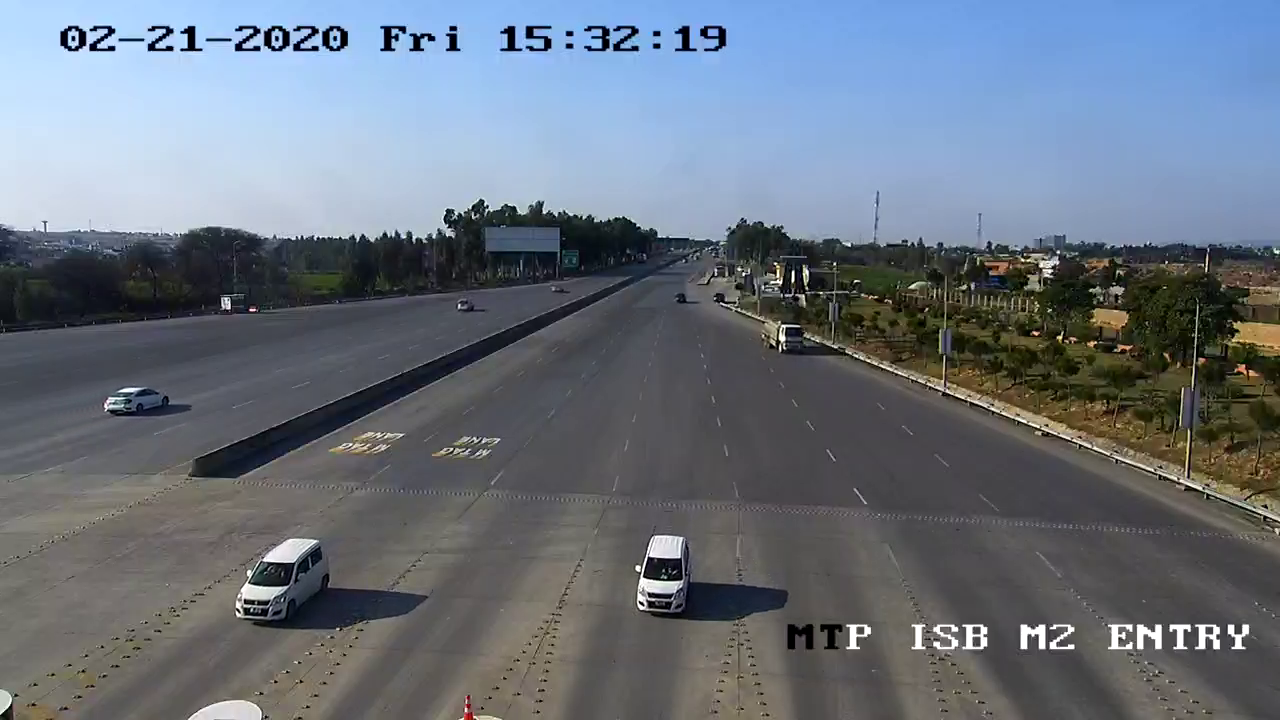f1: (223, 524, 337, 631), (625, 522, 702, 626)
